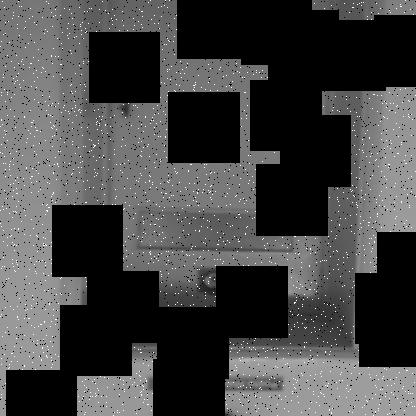Porte: (55, 1, 386, 365)
